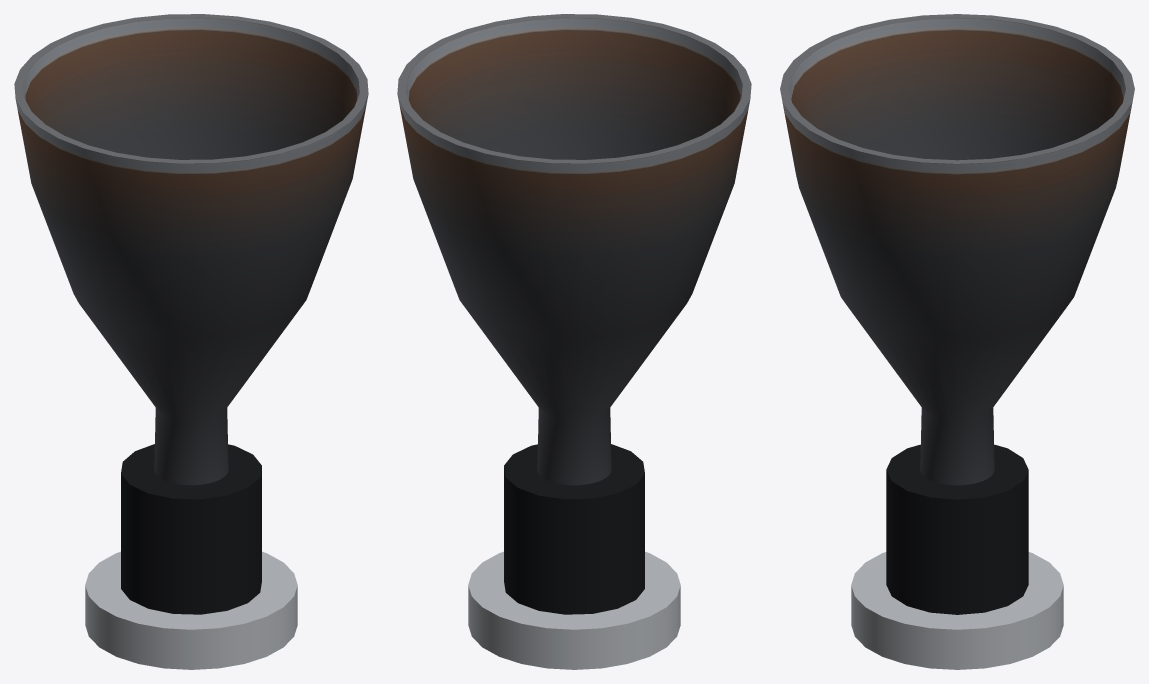
File: prop_aerojet_r4d15.glb
3 renders of one model, left to right at view 1: azimuth 30°, elevation 25°; view 2: azimuth 150°, elevation 25°; view 3: azimuth 270°, elevation 25°, orthographic.
Parts seen in each view (by area): view 1: nozzle_bell, mount_and_valves; view 2: nozzle_bell, mount_and_valves; view 3: nozzle_bell, mount_and_valves.
Boxes of the visible parts, left/top/right/bottom form: nozzle_bell: left=14, top=14, right=368, bottom=485; mount_and_valves: left=85, top=444, right=297, bottom=669; nozzle_bell: left=397, top=14, right=751, bottom=485; mount_and_valves: left=468, top=444, right=680, bottom=669; nozzle_bell: left=780, top=14, right=1134, bottom=485; mount_and_valves: left=851, top=444, right=1063, bottom=669.
Size of the model in its own units: 0.294 by 0.49 by 0.294.
3 materials, 1 textured.
